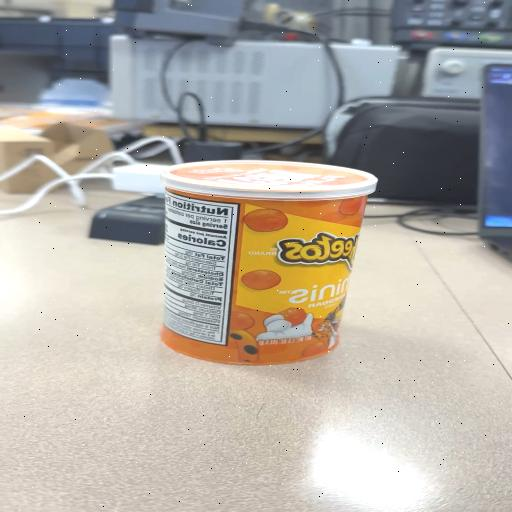pringles: (161, 161, 375, 364)
